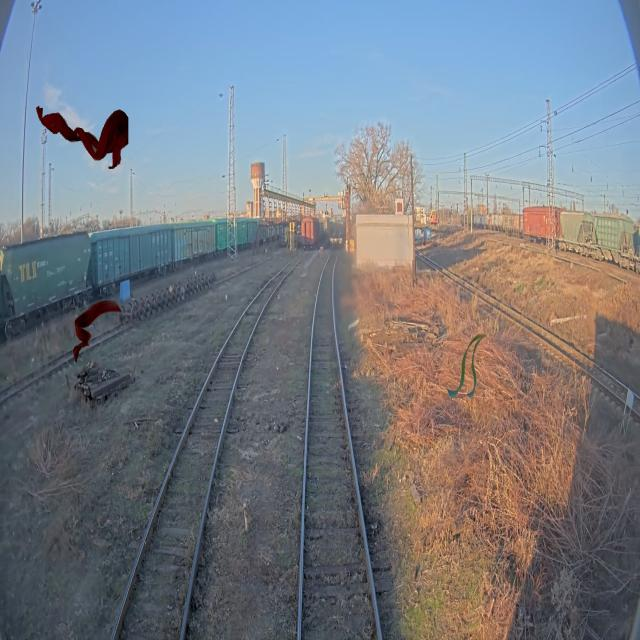floating object: (35, 105, 128, 169), (73, 300, 122, 364), (447, 334, 488, 398)
